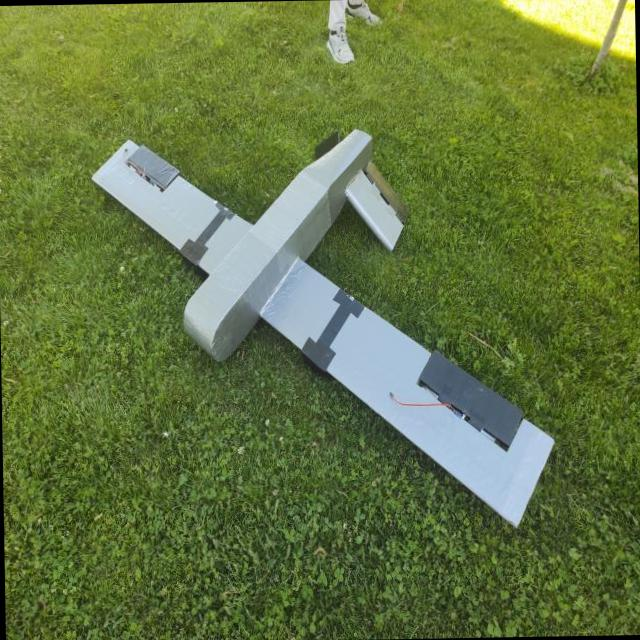UAV: (72, 98, 566, 548)
